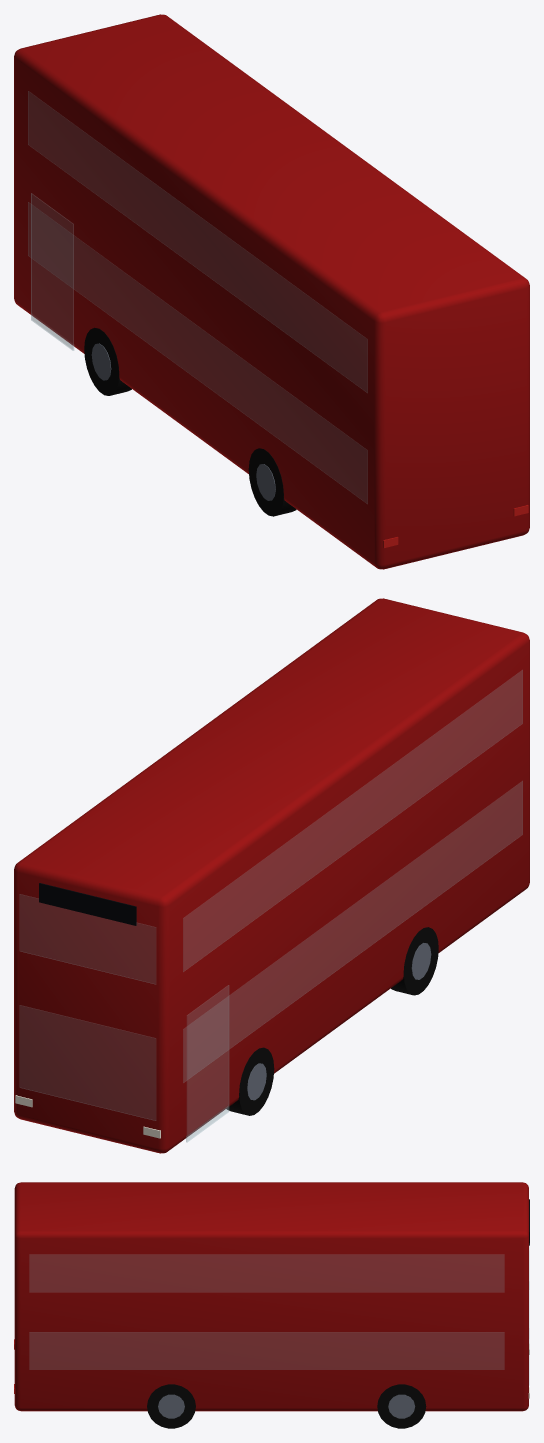
Rendered from vehicle.bus.double.glb.
3 views of the same model, one above another, from view 1: azimuth 30°, elevation 25°; view 2: azimuth 150°, elevation 25°; view 3: azimuth 270°, elevation 25° (orthographic). The views are drawn at different scales.
Visible parts, largest first — view 1: main__car_red, main__glass, main__rubber, main__steel_painted; view 2: main__car_red, main__glass, main__rubber, main__screen, main__steel_painted; view 3: main__car_red, main__glass, main__rubber, main__steel_painted.
Boxes of the visible parts, x1,y1,x2,y2 form: main__car_red: (14,14,529,569); main__glass: (28,91,367,503); main__rubber: (84,327,296,516); main__steel_painted: (91,343,275,500); main__car_red: (14,598,529,1153); main__glass: (20,670,522,1142); main__rubber: (226,927,438,1115); main__screen: (39,883,136,925); main__steel_painted: (247,943,431,1100); main__car_red: (14,1182,528,1411); main__glass: (29,1244,529,1385); main__rubber: (147,1384,426,1428); main__steel_painted: (158,1394,415,1418).
Size of the model in its own units: 2.57 by 4.39 by 10.53.
